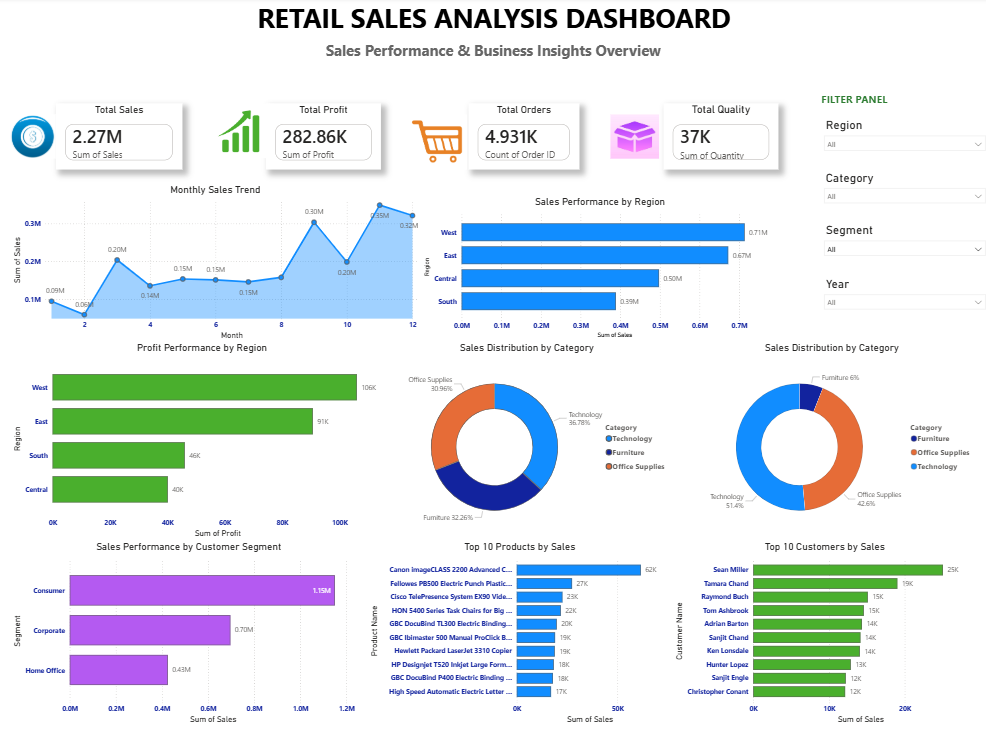

What the dashboard file says about the page in this screenshot:
{"tool":"powerbi","page":{"name":"Page 1","canvas":[1800,1350],"ordinal":0},"visuals":[{"type":"cardVisual","title":"Total Sales","fields":{"Data":["Sum(retail_sales cleaned_retail_data.Sales)"]},"box":[107.2,192,228.8,120],"z":0,"group":"g1"},{"type":"lineChart","title":"Monthly Sales Trend","fields":{"Y":["Sum(retail_sales cleaned_retail_data.Sales)"],"Category":["retail_sales cleaned_retail_data.Month"]},"box":[24,336,744,288],"z":0},{"type":"cardVisual","title":"Total Profit","fields":{"Data":["Sum(retail_sales cleaned_retail_data.Profit)"]},"box":[488,192,208,120],"z":1000,"group":"g2"},{"type":"clusteredBarChart","title":"Sales Performance by Region","fields":{"Y":["Sum(retail_sales cleaned_retail_data.Sales)"],"Category":["retail_sales cleaned_retail_data.Region"]},"box":[768,360,648,264],"z":1000},{"type":"cardVisual","title":"Total Orders","fields":{"Data":["Count(retail_sales cleaned_retail_data.Order ID)"]},"box":[855.4,192,200.6,120],"z":2000,"group":"g3"},{"type":"barChart","title":"Profit Performance by Region","fields":{"Category":["retail_sales cleaned_retail_data.Region"],"Y":["Sum(retail_sales cleaned_retail_data.Profit)"]},"box":[24,624,696,360],"z":2000},{"type":"donutChart","title":"Sales Distribution by Category","fields":{"Category":["retail_sales cleaned_retail_data.Category"],"Y":["Sum(retail_sales cleaned_retail_data.Sales)"]},"box":[696,624,528,360],"z":3000},{"type":"donutChart","title":"Sales Distribution by Category","fields":{"Y":["Sum(retail_sales cleaned_retail_data.Profit)"],"Series":["retail_sales cleaned_retail_data.Category"]},"box":[1248,624,528,360],"z":4000},{"type":"clusteredBarChart","title":"Sales Performance by Customer Segment","fields":{"Category":["retail_sales cleaned_retail_data.Segment"],"Y":["Sum(retail_sales cleaned_retail_data.Sales)"]},"box":[24,984,648,336],"z":5000},{"type":"clusteredBarChart","title":"Top 10 Products by Sales","fields":{"Category":["retail_sales cleaned_retail_data.Product Name"],"Y":["Sum(retail_sales cleaned_retail_data.Sales)"]},"box":[672,984,552,336],"z":6000},{"type":"clusteredBarChart","title":"Top 10 Customers by Sales","fields":{"Category":["retail_sales cleaned_retail_data.Customer Name"],"Y":["Sum(retail_sales cleaned_retail_data.Sales)"]},"box":[1224,984,552,336],"z":7000},{"type":"textbox","box":[456,0,888,96],"z":8000},{"type":"slicer","title":"Filter by Region","fields":{"Values":["retail_sales cleaned_retail_data.Region"]},"box":[1488,216,312,96],"z":8000,"group":"g5"},{"type":"textbox","box":[552,72,696,48],"z":9000},{"type":"slicer","title":"Filter by Category","fields":{"Values":["retail_sales cleaned_retail_data.Category"]},"box":[1488,312,312,96],"z":9000,"group":"g6"},{"type":"group","id":"g1","title":"Group 2","box":[24,192,312,120],"z":10000},{"type":"slicer","title":"Filter by Segment","fields":{"Values":["retail_sales cleaned_retail_data.Segment"]},"box":[1488,408,312,96],"z":10000,"group":"g6"},{"type":"group","id":"g2","title":"Group 3","box":[384,192,312,120],"z":11000},{"type":"slicer","title":"Filter by Year","fields":{"Values":["retail_sales cleaned_retail_data.Year"]},"box":[1488,504,312,96],"z":11000,"group":"g6"},{"type":"group","id":"g3","title":"Group 4","box":[744,192,312,120],"z":12000},{"type":"group","id":"g4","title":"Group 5","box":[1104,192,312,120],"z":13000},{"type":"textbox","box":[1488,168,216,48],"z":14000},{"type":"group","id":"g5","title":"Group 7","box":[1488,216,312,384],"z":15000},{"type":"cardVisual","title":"Total Quality","fields":{"Data":["Sum(retail_sales cleaned_retail_data.Quantity)"]},"box":[1208,192,208,120],"z":16000,"group":"g4"},{"type":"group","id":"g6","title":"Group 6","box":[1488,312,312,288],"z":19501,"group":"g5"},{"type":"image","box":[24,192,83.2,120],"z":23002,"group":"g7"},{"type":"group","id":"g7","title":"Group 1","box":[24,192,83.2,120],"z":24000,"group":"g1"},{"type":"image","box":[384,192,111.4,100],"z":24002,"group":"g2"},{"type":"image","box":[744,212,111.4,100],"z":24004,"group":"g3"},{"type":"image","box":[1104,212,104,80],"z":24006,"group":"g4"}]}

Visuals, with their boxes in screenshot pixels (x1, y1, x2, y2), scaled from the page's 1800x1350 canvas onto the 986x737 screenshot:
"Total Sales" cardVisual: pyautogui.locateOnScreen(59, 105, 184, 170)
"Monthly Sales Trend" lineChart: pyautogui.locateOnScreen(13, 183, 421, 341)
"Total Profit" cardVisual: pyautogui.locateOnScreen(267, 105, 381, 170)
"Sales Performance by Region" clusteredBarChart: pyautogui.locateOnScreen(421, 197, 776, 341)
"Total Orders" cardVisual: pyautogui.locateOnScreen(469, 105, 578, 170)
"Profit Performance by Region" barChart: pyautogui.locateOnScreen(13, 341, 394, 537)
"Sales Distribution by Category" donutChart: pyautogui.locateOnScreen(381, 341, 670, 537)
"Sales Distribution by Category" donutChart: pyautogui.locateOnScreen(684, 341, 973, 537)
"Sales Performance by Customer Segment" clusteredBarChart: pyautogui.locateOnScreen(13, 537, 368, 721)
"Top 10 Products by Sales" clusteredBarChart: pyautogui.locateOnScreen(368, 537, 670, 721)
"Top 10 Customers by Sales" clusteredBarChart: pyautogui.locateOnScreen(670, 537, 973, 721)
textbox: pyautogui.locateOnScreen(250, 0, 736, 52)
"Filter by Region" slicer: pyautogui.locateOnScreen(815, 118, 985, 170)
textbox: pyautogui.locateOnScreen(302, 39, 684, 66)
"Filter by Category" slicer: pyautogui.locateOnScreen(815, 170, 985, 223)
"Group 2" group: pyautogui.locateOnScreen(13, 105, 184, 170)
"Filter by Segment" slicer: pyautogui.locateOnScreen(815, 223, 985, 275)
"Group 3" group: pyautogui.locateOnScreen(210, 105, 381, 170)
"Filter by Year" slicer: pyautogui.locateOnScreen(815, 275, 985, 328)
"Group 4" group: pyautogui.locateOnScreen(408, 105, 578, 170)
"Group 5" group: pyautogui.locateOnScreen(605, 105, 776, 170)
textbox: pyautogui.locateOnScreen(815, 92, 933, 118)
"Group 7" group: pyautogui.locateOnScreen(815, 118, 985, 328)
"Total Quality" cardVisual: pyautogui.locateOnScreen(662, 105, 776, 170)
"Group 6" group: pyautogui.locateOnScreen(815, 170, 985, 328)
image: pyautogui.locateOnScreen(13, 105, 59, 170)
"Group 1" group: pyautogui.locateOnScreen(13, 105, 59, 170)
image: pyautogui.locateOnScreen(210, 105, 271, 159)
image: pyautogui.locateOnScreen(408, 116, 469, 170)
image: pyautogui.locateOnScreen(605, 116, 662, 159)
